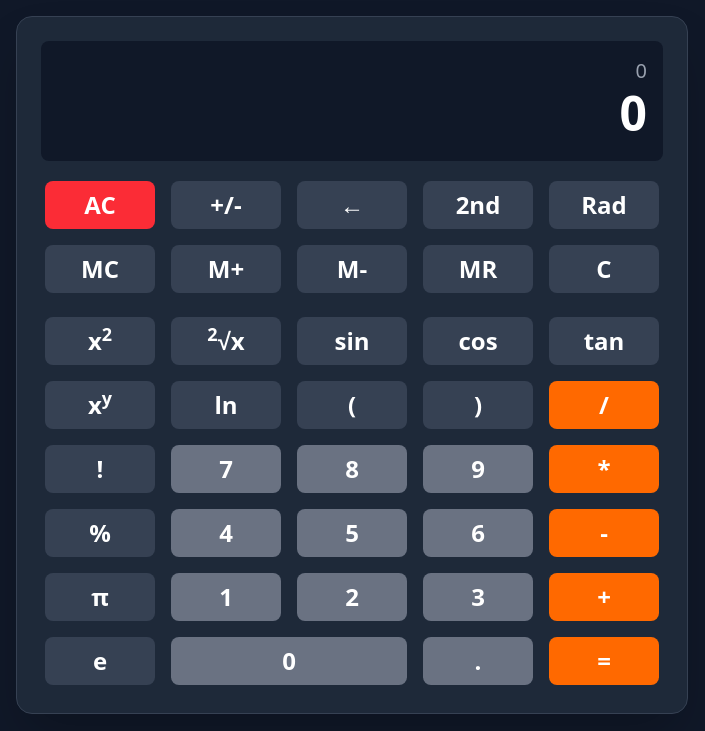
Test: Scientific Calculator Tests › should handle a scientific function (x²) correctly
This screenshot has width=705, height=731.
Click the button "9" at (478, 469), box [423,445,533,493]
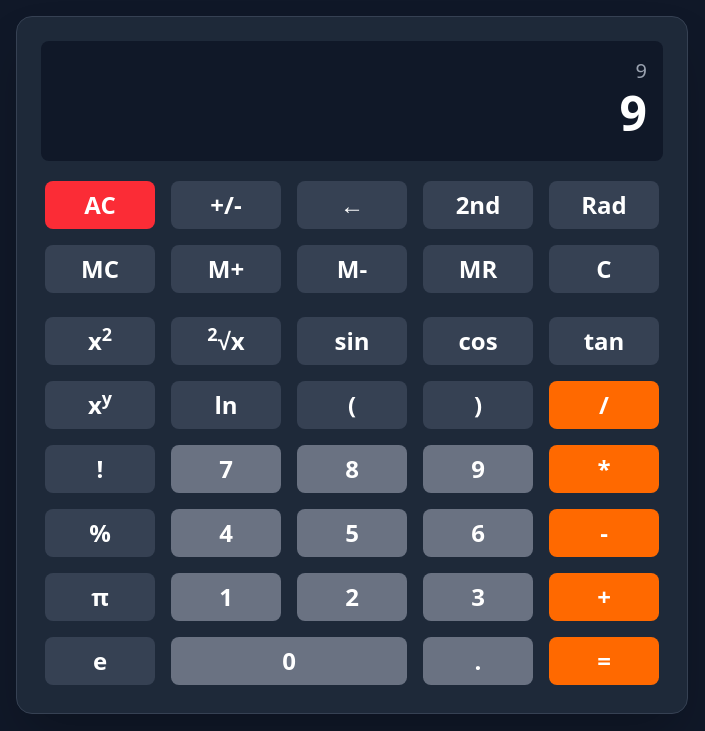
Click the button "x2" at (100, 341), box [45,317,155,365]
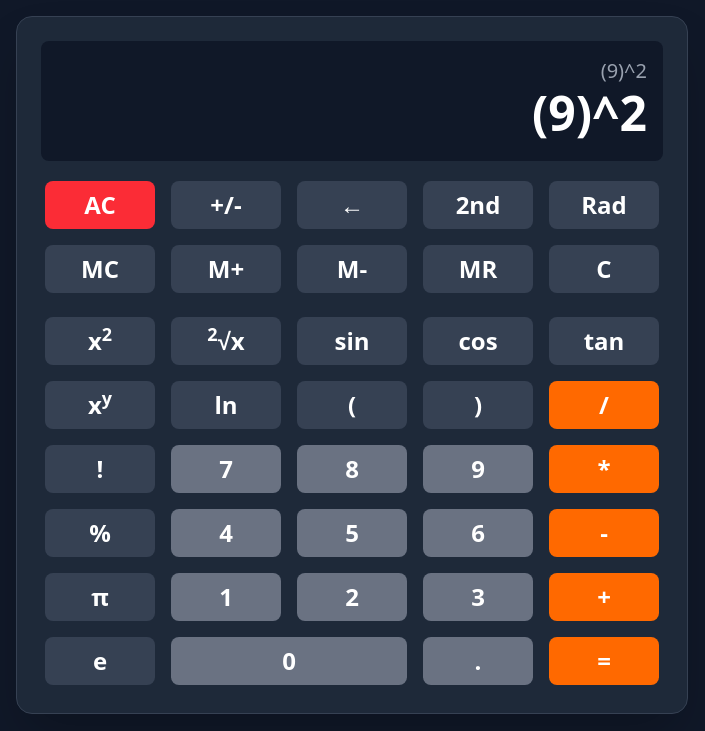
Check: the 2nd text "(9)^2" is shown, box [532,80,647,145]
Click the button "=" at (604, 661), box [549,637,659,685]
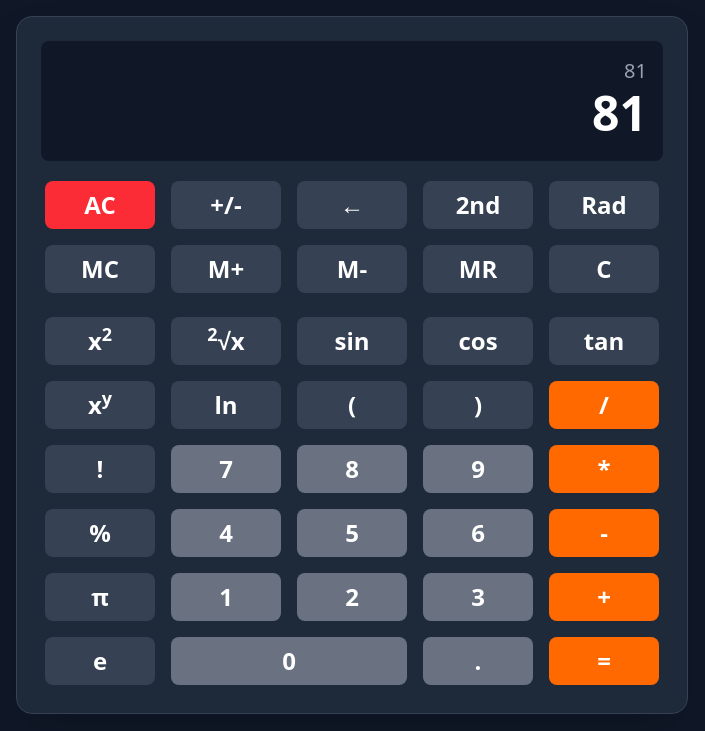
Check: the 2nd text "81" is shown, box [592,80,647,145]
